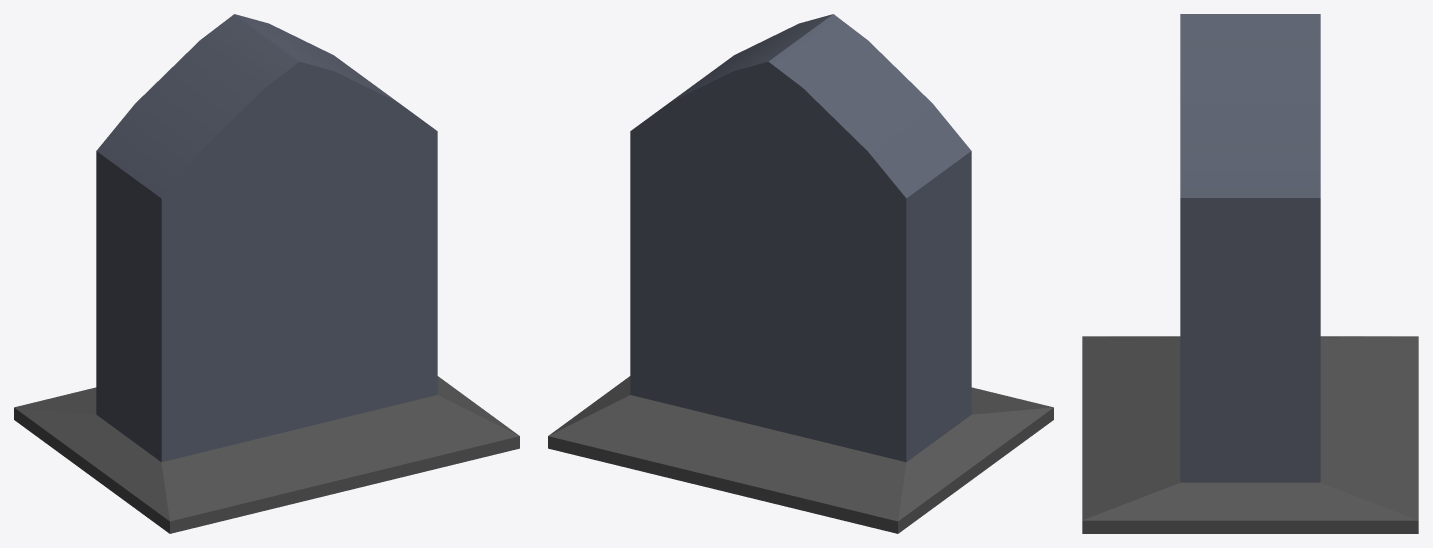
File: Mesh_grave_stone_3.fbx
The picture shows the model from 3 angles, left to right: view 1: azimuth 30°, elevation 25°; view 2: azimuth 150°, elevation 25°; view 3: azimuth 270°, elevation 25°; orthographic projection. The views are drawn at different scales.
Visible parts, largest first — view 1: grave_stone_3; view 2: grave_stone_3; view 3: grave_stone_3.
Boxes of the visible parts, x1,y1,x2,y2 form: grave_stone_3: [14, 14, 519, 533]; grave_stone_3: [548, 14, 1053, 533]; grave_stone_3: [1082, 14, 1418, 533].
Size of the model in its own units: 136 by 147 by 105.
1 material, 1 textured.
